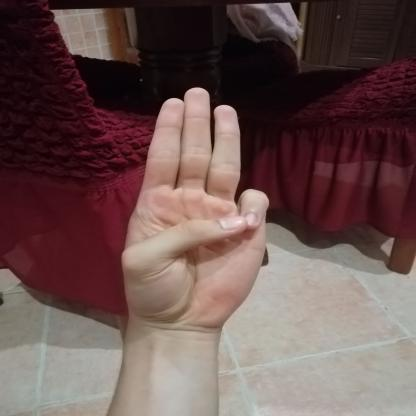THA: (100, 76, 280, 338)
